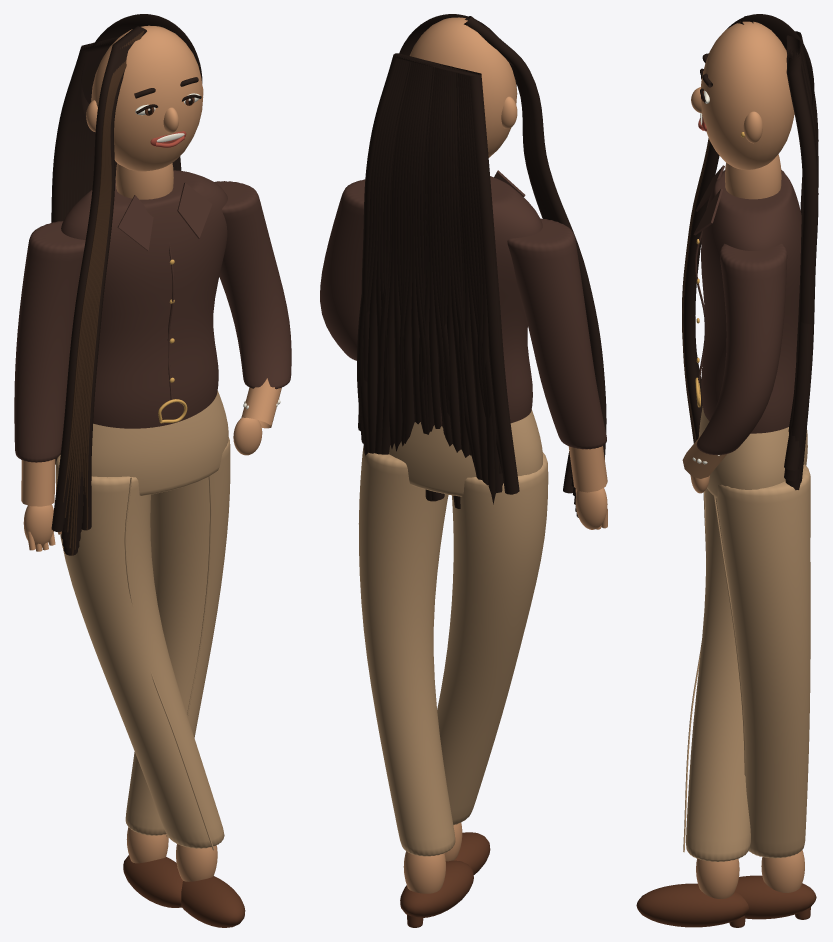
File: portfolio-figure.glb
The picture shows the model from 3 angles, left to right: view 1: azimuth 30°, elevation 25°; view 2: azimuth 150°, elevation 25°; view 3: azimuth 270°, elevation 25°; orthographic projection.
Parts seen in each view (by area): view 1: Blouse, Left trouser leg, Right trouser leg, Left sleeve, Right sleeve, Face, Trousers hip, Swept long hair.023, Pointed leather pump, Back hair lock, Pointed leather pump.001, Swept long hair (+23 smaller); view 2: Right trouser leg, Left trouser leg, Left sleeve, Blouse, Back hair lock, Right sleeve, Face, Trousers hip, Swept long hair.023, Back hair lock.038, Pointed leather pump.001, Back hair lock.041 (+44 smaller); view 3: Right trouser leg, Left trouser leg, Blouse, Right sleeve, Face, Back hair lock.041, Trousers hip, Pointed leather pump, Swept long hair, Pointed leather pump.001, Back hair lock.040, Neck (+10 smaller).
Boxes of the visible parts, <box> form: Blouse: <box>61,170,227,428</box>; Left trouser leg: <box>55,455,224,848</box>; Right trouser leg: <box>125,437,230,835</box>; Left sleeve: <box>14,221,85,462</box>; Right sleeve: <box>214,181,291,389</box>; Face: <box>91,25,203,171</box>; Trousers hip: <box>91,391,228,495</box>; Swept long hair.023: <box>51,44,118,531</box>; Pointed leather pump: <box>181,876,245,927</box>; Back hair lock: <box>51,45,91,464</box>; Pointed leather pump.001: <box>123,855,182,907</box>; Swept long hair: <box>81,26,146,530</box>; Right trouser leg: <box>358,446,455,856</box>; Left trouser leg: <box>437,452,548,825</box>; Left sleeve: <box>507,218,606,449</box>; Blouse: <box>440,176,542,426</box>; Back hair lock: <box>469,73,519,494</box>; Right sleeve: <box>320,179,365,360</box>; Face: <box>409,17,517,157</box>; Trousers hip: <box>389,409,542,496</box>; Swept long hair.023: <box>487,33,606,459</box>; Back hair lock.038: <box>367,55,412,453</box>; Pointed leather pump.001: <box>400,860,473,917</box>; Back hair lock.041: <box>358,53,407,431</box>; Right trouser leg: <box>716,464,810,858</box>; Left trouser leg: <box>686,488,750,861</box>; Blouse: <box>701,171,801,433</box>; Right sleeve: <box>696,243,787,455</box>; Face: <box>701,21,794,169</box>; Back hair lock.041: <box>784,70,818,470</box>; Trousers hip: <box>698,406,807,497</box>; Pointed leather pump: <box>636,883,748,927</box>; Swept long hair: <box>683,15,753,440</box>; Pointed leather pump.001: <box>735,875,816,919</box>; Back hair lock.040: <box>784,69,818,481</box>; Neck: <box>725,154,781,199</box>.
Size of the model in its own units: 0.5792 by 1.8 by 0.3336.
